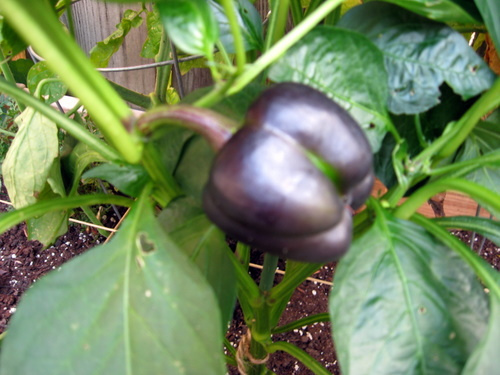capsicum: (201, 80, 378, 266)
